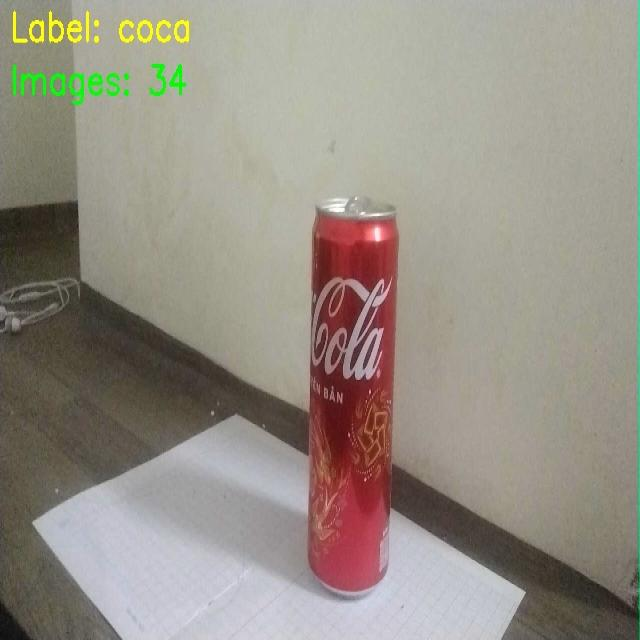Coca: (284, 160, 430, 599)
